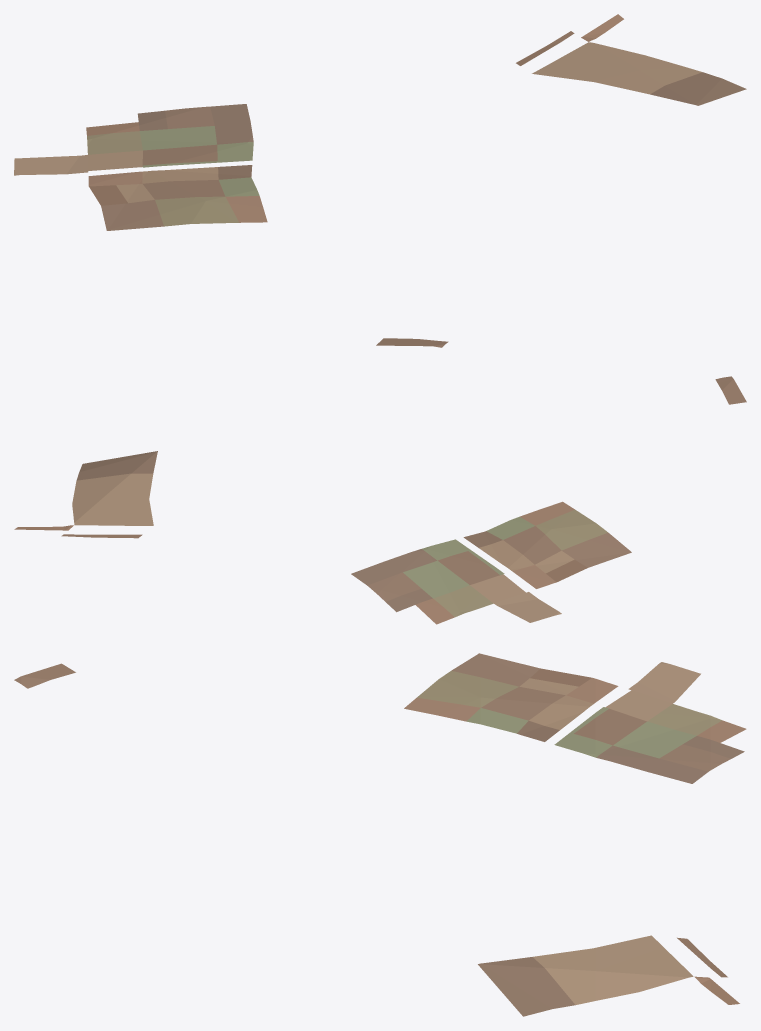
The model's file is farm_-35_-33_soil.glb.
3 renders of one model, top to bottom at view 1: azimuth 30°, elevation 25°; view 2: azimuth 150°, elevation 25°; view 3: azimuth 270°, elevation 25°, orthographic. The views are drawn at different scales.
Parts seen in each view (by area): view 1: geometry_0; view 2: geometry_0; view 3: geometry_0.
Boxes of the visible parts, x1,y1,x2,y2 form: geometry_0: [14, 14, 746, 347]; geometry_0: [14, 376, 746, 624]; geometry_0: [14, 653, 746, 1016].
Bounding box in the file's own units: 542 × 47.78 × 510.
